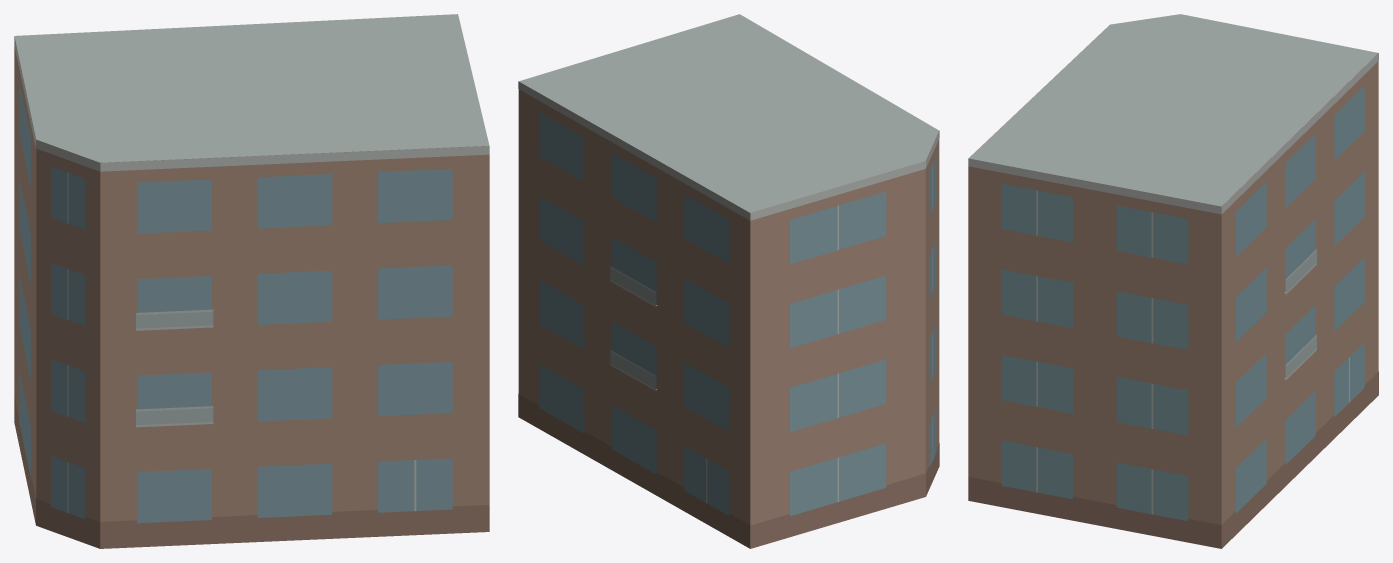
File: survey-upis-32531109.glb
3 views of the same model, side by side, from view 1: azimuth 30°, elevation 25°; view 2: azimuth 150°, elevation 25°; view 3: azimuth 270°, elevation 25° (orthographic). The views are drawn at different scales.
Parts seen in each view (by area): view 1: survey-upis-32531109.tmp; view 2: survey-upis-32531109.tmp; view 3: survey-upis-32531109.tmp.
Boxes of the visible parts, x1,y1,x2,y2 form: survey-upis-32531109.tmp: (14, 14, 489, 548); survey-upis-32531109.tmp: (518, 14, 939, 548); survey-upis-32531109.tmp: (968, 14, 1378, 548).
Size of the model in its own units: 12.8 by 10.6 by 11.53.
